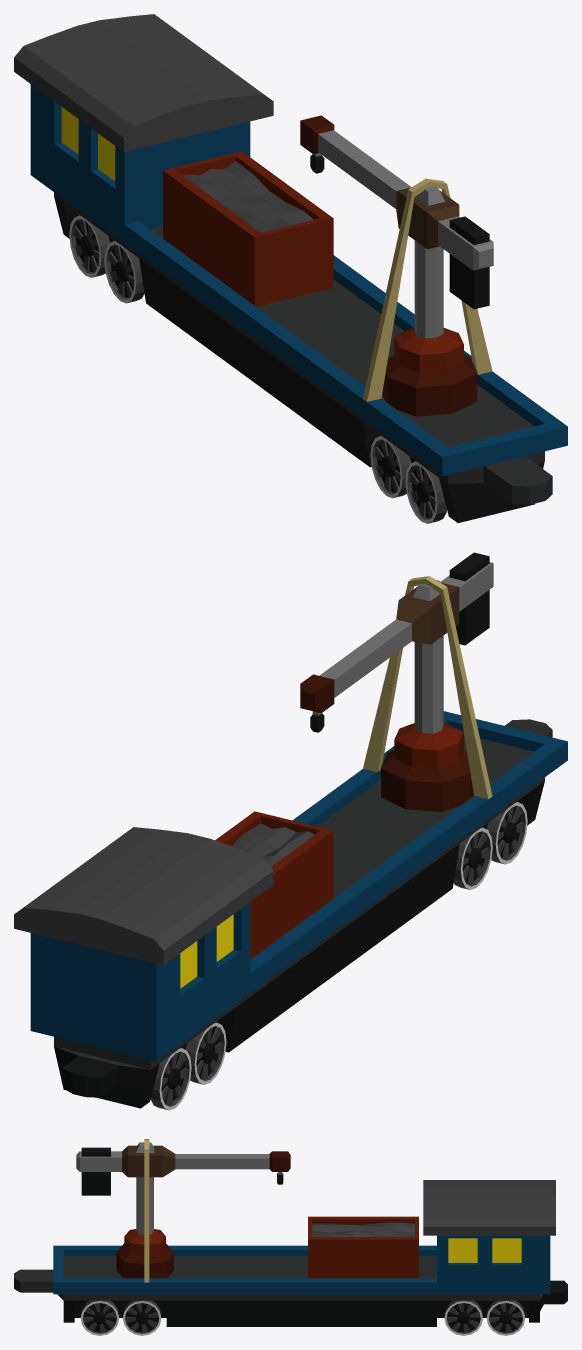
File: CarSteel.fbx
3 renders of one model, top to bottom at view 1: azimuth 30°, elevation 25°; view 2: azimuth 150°, elevation 25°; view 3: azimuth 270°, elevation 25°, orthographic. The views are drawn at different scales.
Visible parts, largest first — view 1: Cube.021, Cube.022, Cylinder.021, Cylinder.023, Cylinder.022, Cylinder.024; view 2: Cube.021, Cube.022, Cylinder.021, Cylinder.023, Cylinder.024, Cylinder.022; view 3: Cube.021, Cube.022, Cylinder.021, Cylinder.022, Cylinder.024, Cylinder.023, Cube.045.
Boxes of the visible parts, x1,y1,x2,y2 form: Cube.021: [14, 14, 567, 522]; Cube.022: [300, 115, 493, 416]; Cylinder.021: [405, 461, 446, 523]; Cylinder.023: [104, 241, 144, 303]; Cylinder.022: [370, 435, 411, 498]; Cylinder.024: [69, 215, 110, 277]; Cube.021: [14, 576, 567, 1108]; Cube.022: [300, 552, 493, 811]; Cylinder.021: [487, 802, 527, 864]; Cylinder.023: [185, 1022, 226, 1084]; Cylinder.024: [150, 1048, 191, 1110]; Cylinder.022: [453, 827, 492, 889]; Cube.021: [14, 1139, 567, 1326]; Cube.022: [76, 1142, 290, 1278]; Cylinder.021: [80, 1300, 119, 1335]; Cylinder.022: [122, 1300, 161, 1335]; Cylinder.024: [486, 1300, 525, 1335]; Cylinder.023: [444, 1300, 482, 1335]; Cube.045: [74, 1300, 528, 1317].
Size of the model in its own units: 297 by 572 by 1575.
